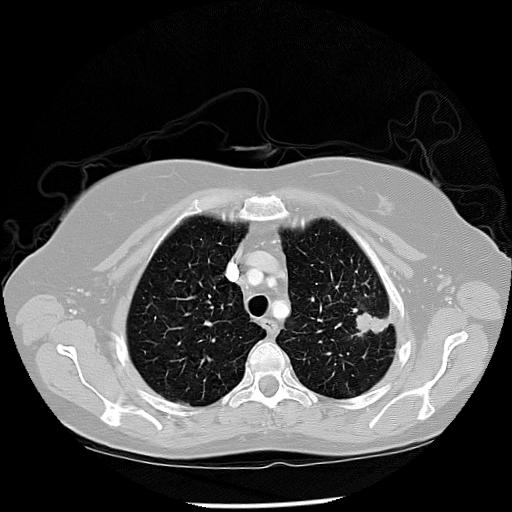nodule: (358, 307, 391, 340)
